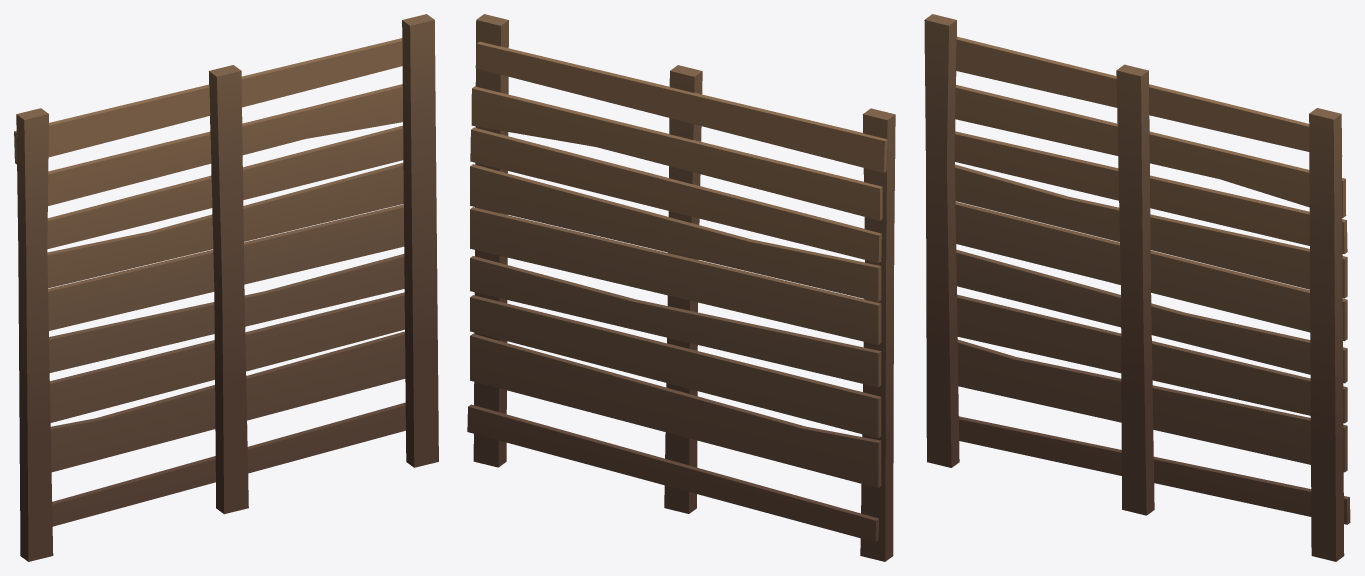
Rendered from Mines Wood Fence1 4M.glb.
3 renders of one model, left to right at view 1: azimuth 30°, elevation 25°; view 2: azimuth 150°, elevation 25°; view 3: azimuth 330°, elevation 25°, orthographic.
Visible parts, largest first — view 1: Mines Wood Fence1 4M; view 2: Mines Wood Fence1 4M; view 3: Mines Wood Fence1 4M.
Boxes of the visible parts, left/top/right/bottom form: Mines Wood Fence1 4M: left=14, top=14, right=438, bottom=561; Mines Wood Fence1 4M: left=467, top=14, right=895, bottom=561; Mines Wood Fence1 4M: left=924, top=14, right=1350, bottom=561.
Size of what is drawn, in the model's own units: 3.87 by 3.93 by 0.1883.
Materials: 1 (1 with a texture image).
